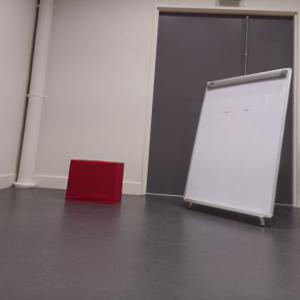big: (185, 67, 291, 219)
medium: (64, 158, 125, 205)
